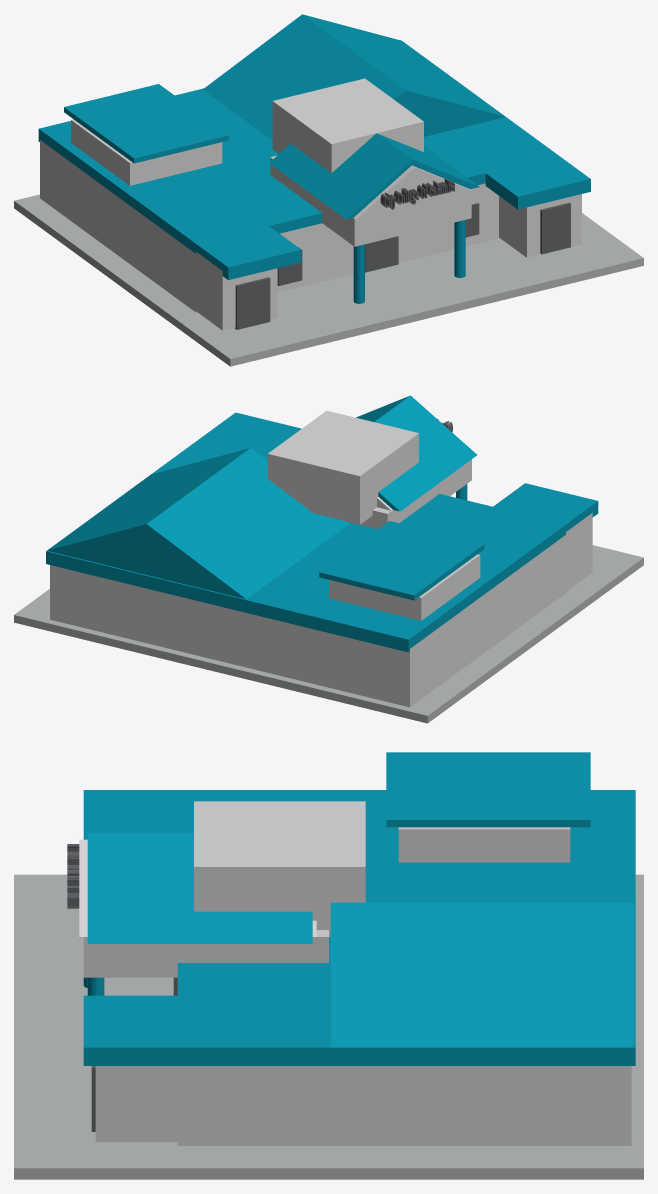
Rendered from admin.glb.
The picture shows the model from 3 angles, top to bottom: view 1: azimuth 30°, elevation 25°; view 2: azimuth 150°, elevation 25°; view 3: azimuth 270°, elevation 25°; orthographic projection. The views are drawn at different scales.
Visible parts, largest first — view 1: Mesh_Mesh_head_geo.001_lambert2SG.001; view 2: Mesh_Mesh_head_geo.001_lambert2SG.001; view 3: Mesh_Mesh_head_geo.001_lambert2SG.001.
Boxes of the visible parts, x1,y1,x2,y2 form: Mesh_Mesh_head_geo.001_lambert2SG.001: [14, 14, 643, 366]; Mesh_Mesh_head_geo.001_lambert2SG.001: [14, 395, 643, 723]; Mesh_Mesh_head_geo.001_lambert2SG.001: [14, 752, 643, 1179].
Size of the model in its own units: 170 by 54 by 154.
